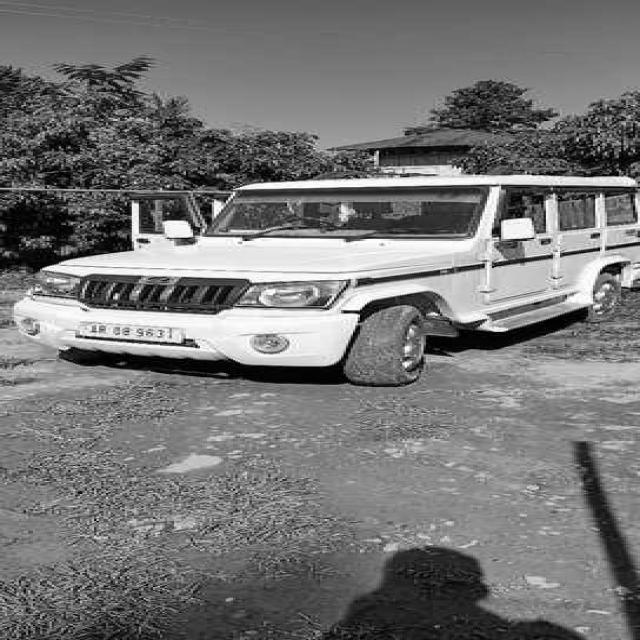car: (16, 174, 640, 386), (85, 323, 174, 343)
